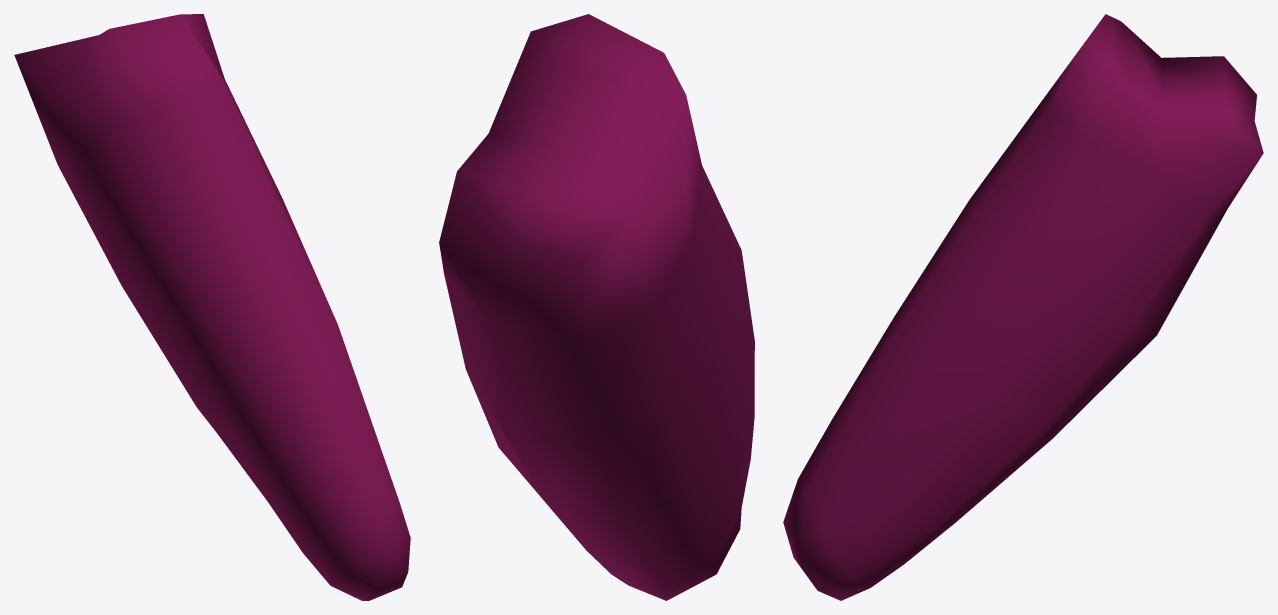
File: SM_Thorn_02_Broken_F.FBX
The picture shows the model from 3 angles, left to right: view 1: azimuth 30°, elevation 25°; view 2: azimuth 150°, elevation 25°; view 3: azimuth 270°, elevation 25°; orthographic projection. The views are drawn at different scales.
Parts seen in each view (by area): view 1: Object005; view 2: Object005; view 3: Object005.
Part boxes in pixels (<box>): Object005: <box>14,14,410,600</box>; Object005: <box>439,14,754,600</box>; Object005: <box>783,14,1263,600</box>.
Bounding box in the file's own units: 133 × 327 × 272.
